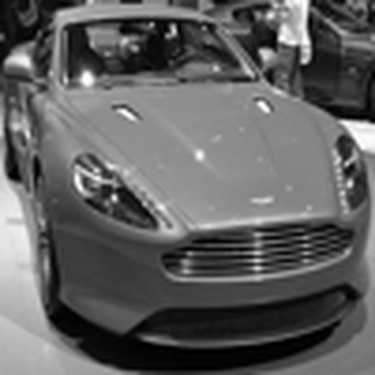car: (6, 2, 373, 373), (193, 1, 291, 53)
